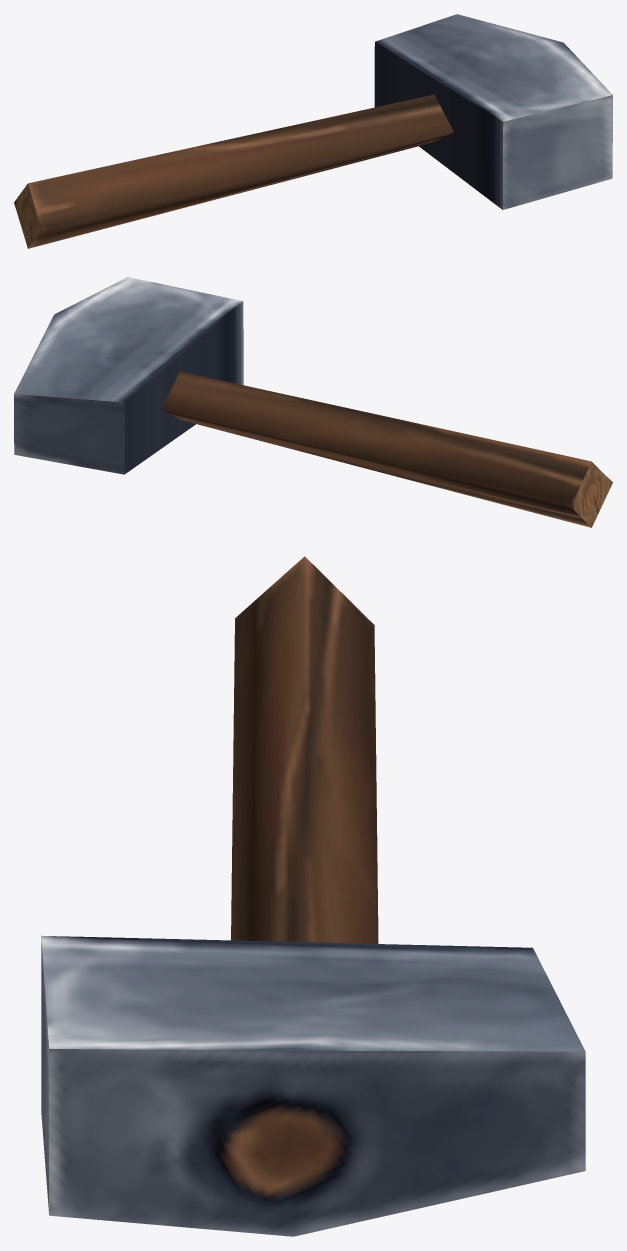
Rendered from ELF_Hammer.FBX.
The picture shows the model from 3 angles, top to bottom: view 1: azimuth 30°, elevation 25°; view 2: azimuth 150°, elevation 25°; view 3: azimuth 270°, elevation 25°; orthographic projection. The views are drawn at different scales.
Parts seen in each view (by area): view 1: ELF_Hammer; view 2: ELF_Hammer; view 3: ELF_Hammer.
Part boxes in pixels (x1,y1,x2,y2): ELF_Hammer: (14,14,612,248); ELF_Hammer: (14,277,612,527); ELF_Hammer: (41,556,585,1236).
Bounding box in the file's own units: 28.64 × 4.76 × 12.59.
